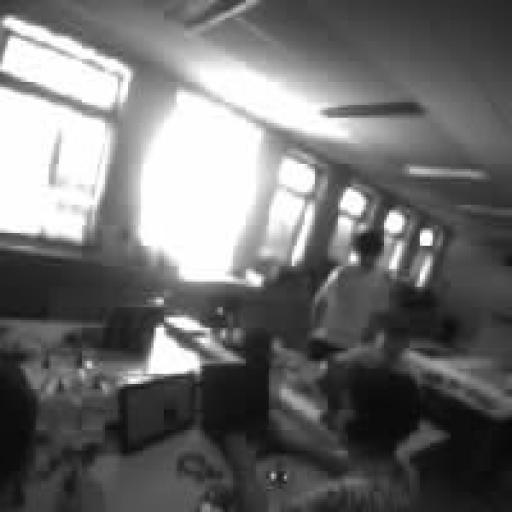human: (282, 367, 419, 511), (308, 228, 391, 360), (318, 310, 414, 422), (0, 361, 38, 509)
